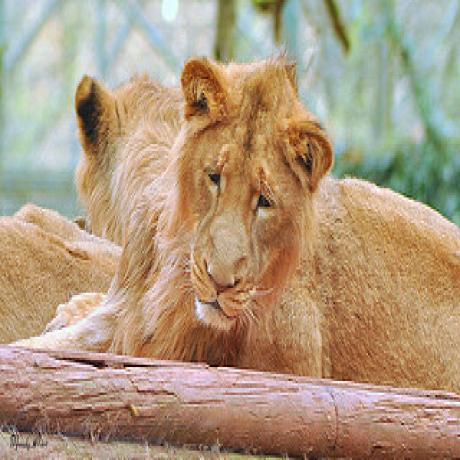Lion: (155, 48, 460, 390), (72, 55, 193, 270)
